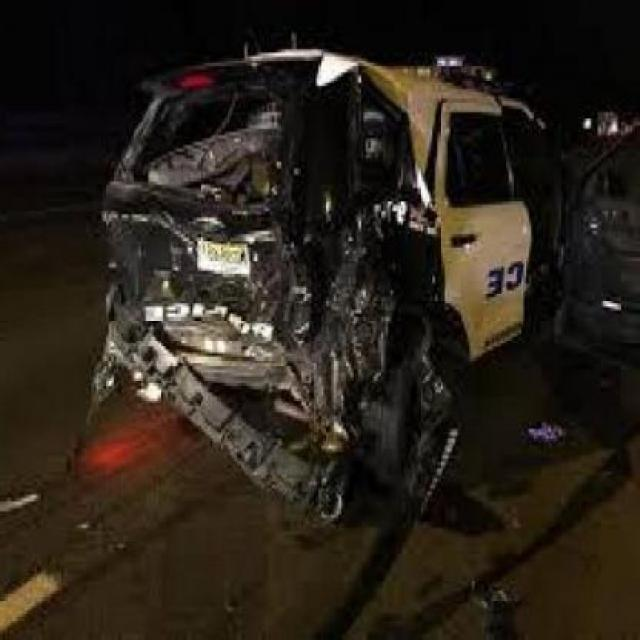damage: (94, 49, 448, 517)
